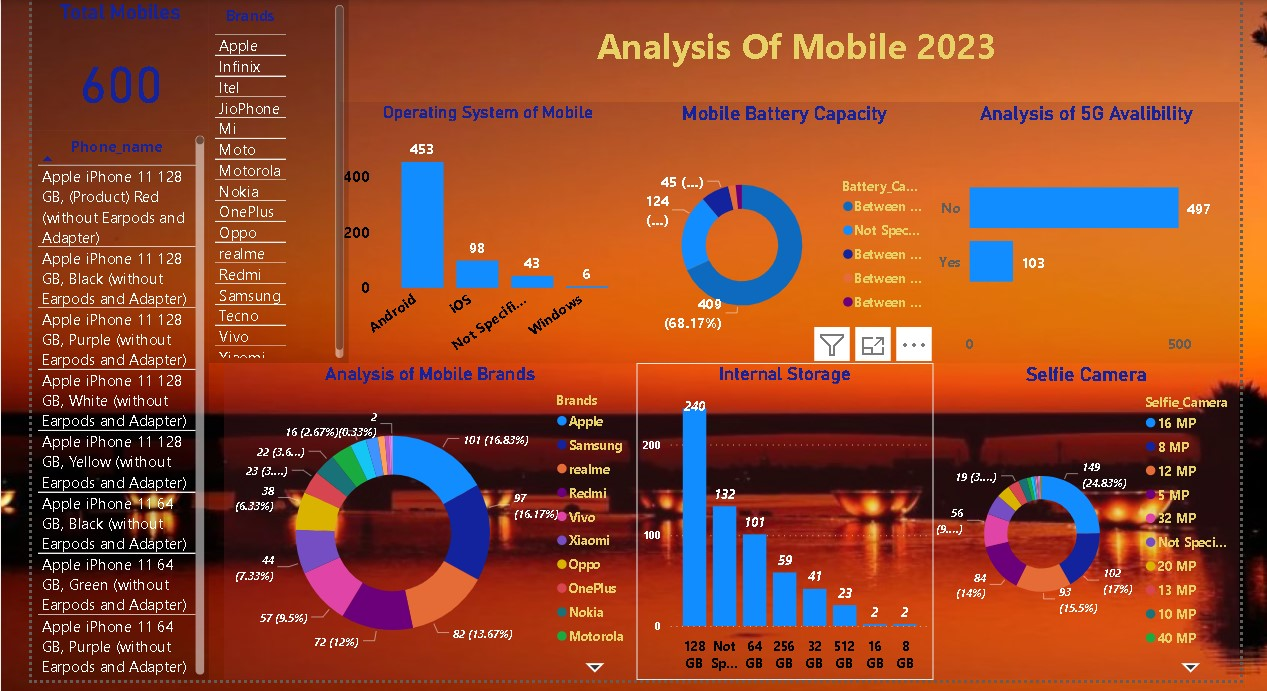

Layout of this report page (visuals, bound fields, positions):
{"tool":"powerbi","page":{"name":"Page 1","canvas":[1280,720],"ordinal":0},"visuals":[{"type":"card","title":"Total Mobiles","fields":{"Values":["Sum(akkiiimotivation mobile_analysis.Total_Mobile)"]},"box":[0,0,187.5,138.3],"z":0},{"type":"tableEx","fields":{"Values":["akkiiimotivation mobile_analysis.Phone_name"]},"box":[0,138.3,187.5,581.7],"z":1},{"type":"tableEx","fields":{"Values":["akkiiimotivation mobile_analysis.Brands"]},"box":[187.5,0,147.8,384.6],"z":2},{"type":"clusteredColumnChart","title":" Operating System of Mobile","fields":{"Category":["akkiiimotivation mobile_analysis.Operating_System_Type"],"Y":["Sum(akkiiimotivation mobile_analysis.Total_Mobile)"]},"box":[325.8,108.1,314.7,276.6],"z":3},{"type":"donutChart","title":" Mobile Battery Capacity","fields":{"Category":["akkiiimotivation mobile_analysis.Battery_Capacity_Range"],"Y":["Sum(akkiiimotivation mobile_analysis.Total_Mobile)"]},"box":[640.5,108.1,314.7,276.6],"z":4},{"type":"barChart","title":"Analysis of 5G Avalibility","fields":{"Category":["akkiiimotivation mobile_analysis.5G_Availability"],"Y":["Sum(akkiiimotivation mobile_analysis.Total_Mobile)"]},"box":[955.2,108.1,324.2,276.6],"z":5},{"type":"donutChart","title":"Analysis of Mobile Brands","fields":{"Category":["akkiiimotivation mobile_analysis.Brands"],"Y":["Sum(akkiiimotivation mobile_analysis.Total_Mobile)"]},"box":[203.4,384.6,437.1,335.4],"z":6},{"type":"columnChart","title":"Internal Storage","fields":{"Category":["akkiiimotivation mobile_analysis.Internal_Storage"],"Y":["Sum(akkiiimotivation mobile_analysis.Total_Mobile)"]},"box":[640.5,384.6,314.7,335.4],"z":7},{"type":"donutChart","title":"Selfie Camera","fields":{"Category":["akkiiimotivation mobile_analysis.Selfie_Camera"],"Y":["Sum(akkiiimotivation mobile_analysis.Total_Mobile)"]},"box":[955.2,384.6,324.2,335.4],"z":8},{"type":"textbox","box":[545.2,17.5,530.9,65.2],"z":9}]}

Visuals, with their boxes on the page's 1280x720 design canvas (x1, y1, x2, y2). These are canvas units, not pixel positions in the 1267x691 screenshot, which may show the page scaled, cropped or inside an application window:
"Total Mobiles" card: [left=0, top=0, right=188, bottom=138]
tableEx - akkiiimotivation mobile_analysis.Phone_name: [left=0, top=138, right=188, bottom=720]
tableEx - akkiiimotivation mobile_analysis.Brands: [left=188, top=0, right=335, bottom=385]
" Operating System of Mobile" clusteredColumnChart: [left=326, top=108, right=640, bottom=385]
" Mobile Battery Capacity" donutChart: [left=640, top=108, right=955, bottom=385]
"Analysis of 5G Avalibility" barChart: [left=955, top=108, right=1279, bottom=385]
"Analysis of Mobile Brands" donutChart: [left=203, top=385, right=640, bottom=720]
"Internal Storage" columnChart: [left=640, top=385, right=955, bottom=720]
"Selfie Camera" donutChart: [left=955, top=385, right=1279, bottom=720]
textbox: [left=545, top=18, right=1076, bottom=83]
